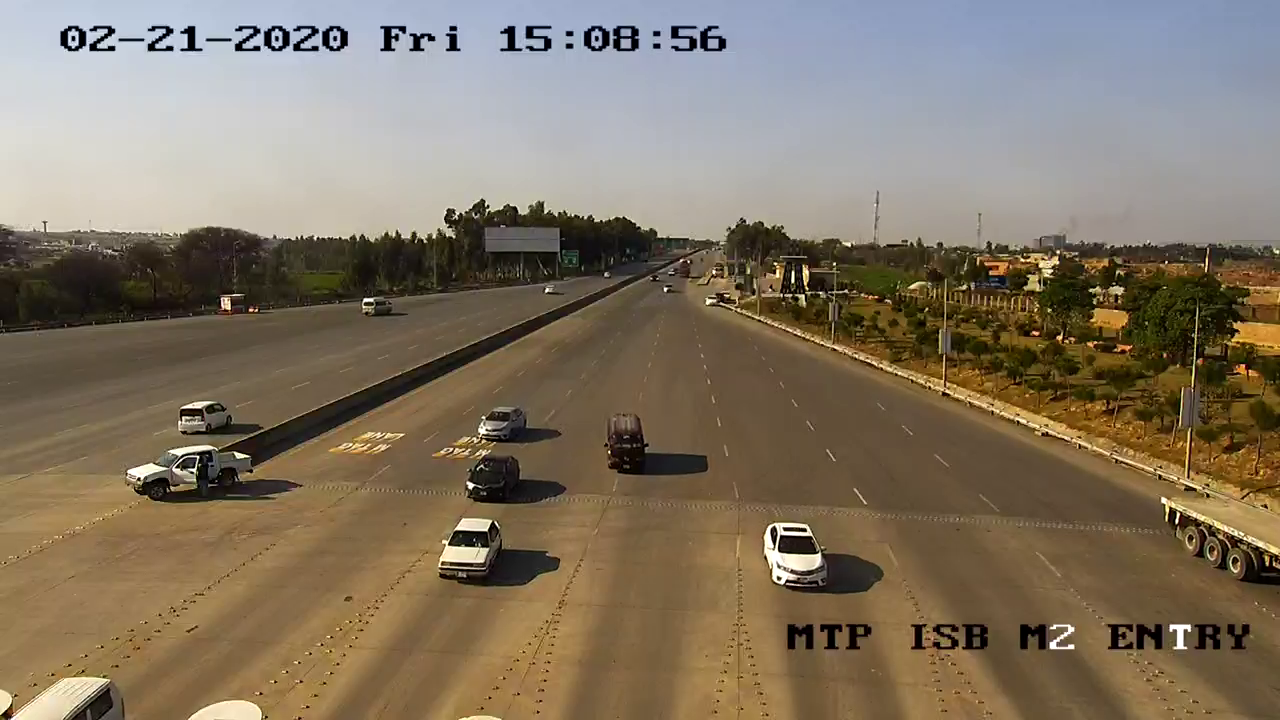f1: (748, 512, 839, 594), (431, 509, 509, 586)
f2: (592, 408, 660, 484), (461, 451, 526, 512)
